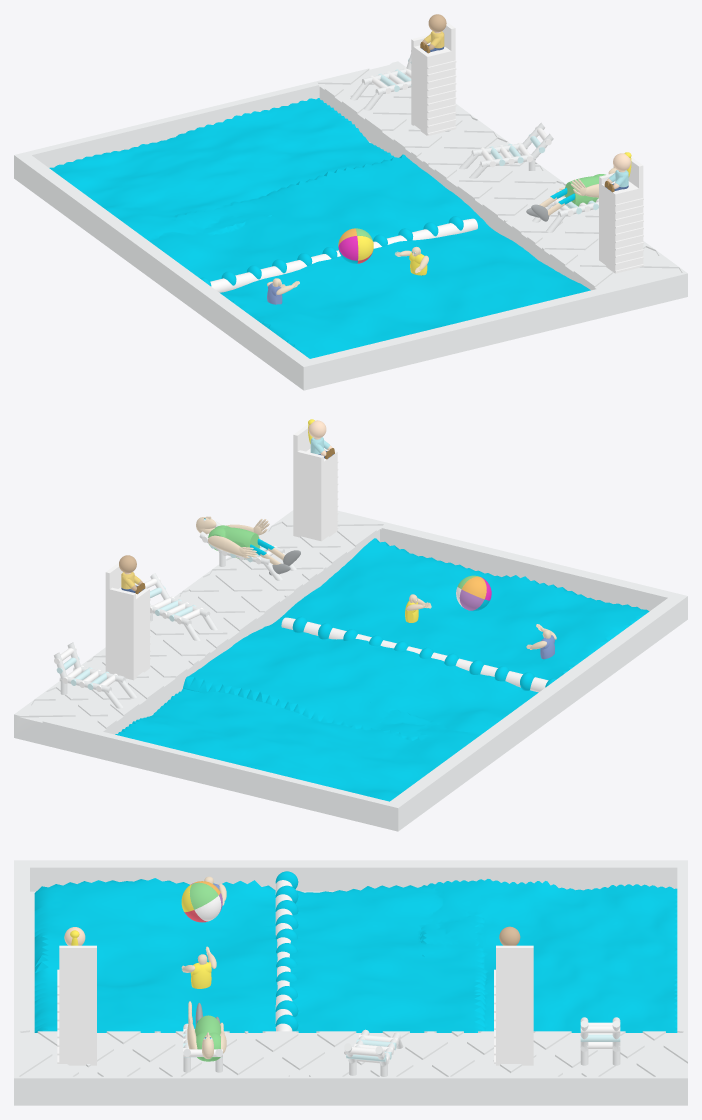
File: town_pool.glb
3 views of the same model, one above another, from view 1: azimuth 30°, elevation 25°; view 2: azimuth 150°, elevation 25°; view 3: azimuth 270°, elevation 25° (orthographic). The views are drawn at different scales.
Visible parts, largest first — view 1: Object_2, Object_6, Object_12, Object_18, Object_8, Object_4, Object_15, Object_19; view 2: Object_2, Object_6, Object_12, Object_18, Object_8, Object_4, Object_19; view 3: Object_2, Object_6, Object_12, Object_18, Object_19, Object_8, Object_15, Object_4.
Part boxes in pixels (box(x1,y1,x2,y2)): Object_2: box(49, 98, 590, 358); Object_6: box(14, 53, 687, 390); Object_12: box(210, 21, 643, 292); Object_18: box(200, 188, 575, 286); Object_8: box(267, 168, 616, 294); Object_4: box(378, 58, 598, 214); Object_15: box(357, 152, 631, 275); Object_19: box(355, 174, 605, 241); Object_2: box(115, 538, 649, 801); Object_6: box(14, 510, 687, 831); Object_12: box(54, 424, 548, 692); Object_18: box(204, 518, 556, 690); Object_8: box(196, 516, 556, 649); Object_4: box(56, 544, 266, 689); Object_19: box(208, 525, 479, 588); Object_2: box(34, 878, 677, 1032); Object_6: box(14, 860, 687, 1105); Object_12: box(57, 880, 620, 1065); Object_18: box(196, 871, 298, 1038); Object_19: box(189, 882, 220, 1061); Object_8: box(181, 876, 226, 1058); Object_15: box(70, 884, 211, 988); Object_4: box(183, 1033, 620, 1061).
Size of the model in its own units: 291 by 96.91 by 358.
